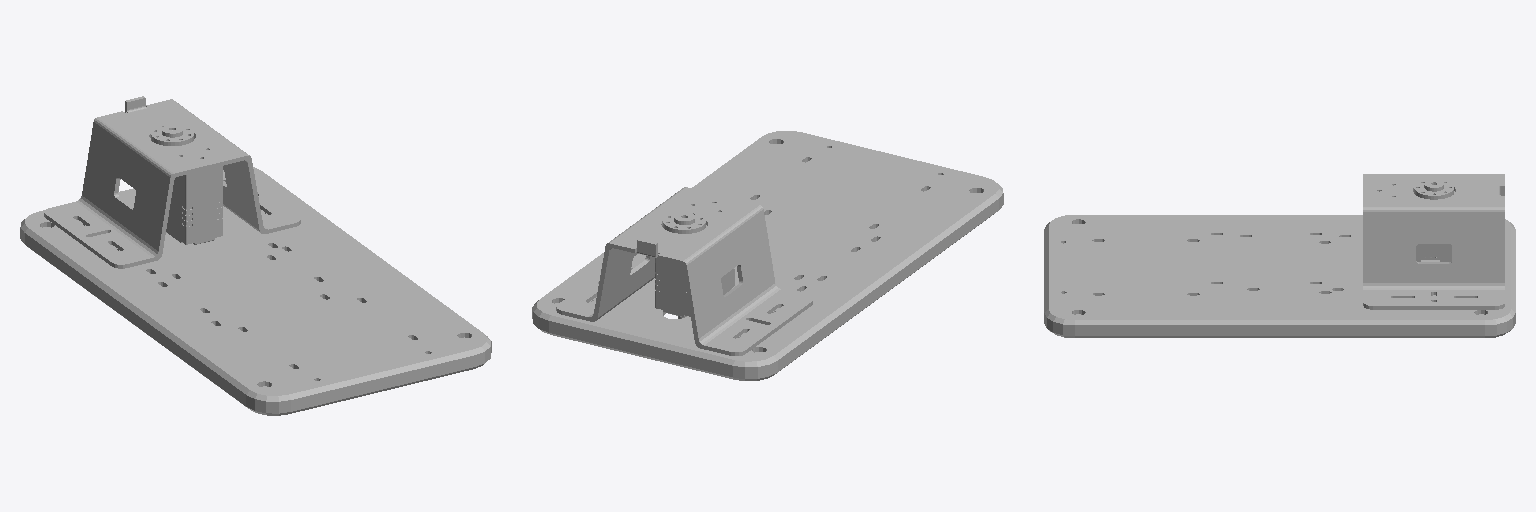
URDF robot description (robo_description):
<?xml version="1.0" encoding="utf-8"?>
<!-- This URDF was automatically created by SolidWorks to URDF Exporter! Originally created by [author] ([email redacted]) 
     Commit Version: 1.6.0-4-g7f85cfe  Build Version: 1.6.7995.38578
     For more information, please see http://wiki.ros.org/sw_urdf_exporter -->
<robot
  name="robo_description">
  <link
    name="base_link">
    <visual>
      <origin
        xyz="0 0 0"
        rpy="0 0 0" />
      <geometry>
        <mesh
          filename="package://robo_description/meshes/visual/base_link.STL" />
      </geometry>
      <material
        name="">
        <color
          rgba="0.75294 0.75294 0.75294 1" />
      </material>
    </visual>
    <collision>
      <origin
        xyz="0 0 0"
        rpy="0 0 0" />
      <geometry>
        <mesh
          filename="package://robo_description/meshes/visual/base_link.STL" />
      </geometry>
    </collision>
  </link>
  <link
    name="robot_link1">
    <visual>
      <origin
        xyz="0 0 0"
        rpy="0 0 0" />
      <geometry>
        <mesh
          filename="package://robo_description/meshes/visual/robot_link1.STL" />
      </geometry>
      <material
        name="">
        <color
          rgba="0.75294 0.75294 0.75294 1" />
      </material>
    </visual>
    <collision>
      <origin
        xyz="0 0 0"
        rpy="0 0 0" />
      <geometry>
        <mesh
          filename="package://robo_description/meshes/visual/robot_link1.STL" />
      </geometry>
    </collision>
  </link>
  <joint
    name="robot_joint1"
    type="revolute">
    <origin
      xyz="-4.1073E-05 0.080098 0.057"
      rpy="0 0 0" />
    <parent
      link="base_link" />
    <child
      link="robot_link1" />
    <axis
      xyz="0 0 -1" />
    <limit
      lower="-2"
      upper="2"
      effort="30"
      velocity="50" />
  </joint>
  <link
    name="robot_link2">
    <visual>
      <origin
        xyz="0 0 0"
        rpy="0 0 0" />
      <geometry>
        <mesh
          filename="package://robo_description/meshes/visual/robot_link2.STL" />
      </geometry>
      <material
        name="">
        <color
          rgba="0.75294 0.75294 0.75294 1" />
      </material>
    </visual>
    <collision>
      <origin
        xyz="0 0 0"
        rpy="0 0 0" />
      <geometry>
        <mesh
          filename="package://robo_description/meshes/visual/robot_link2.STL" />
      </geometry>
    </collision>
  </link>
  <joint
    name="robot_joint2"
    type="revolute">
    <origin
      xyz="-0.0258 -0.00081639 0.015894"
      rpy="-1.5708 0 1.5708" />
    <parent
      link="robot_link1" />
    <child
      link="robot_link2" />
    <axis
      xyz="0 0 1" />
    <limit
      lower="-0.9"
      upper="1.5"
      effort="30"
      velocity="50.000001" />
  </joint>
  <link
    name="robot_link3">
    <visual>
      <origin
        xyz="0 0 0"
        rpy="0 0 0" />
      <geometry>
        <mesh
          filename="package://robo_description/meshes/visual/robot_link3.STL" />
      </geometry>
      <material
        name="">
        <color
          rgba="0.75294 0.75294 0.75294 1" />
      </material>
    </visual>
    <collision>
      <origin
        xyz="0 0 0"
        rpy="0 0 0" />
      <geometry>
        <mesh
          filename="package://robo_description/meshes/visual/robot_link3.STL" />
      </geometry>
    </collision>
  </link>
  <joint
    name="robot_joint3"
    type="revolute">
    <origin
      xyz="0 -0.081399 0.001"
      rpy="0 0 0" />
    <parent
      link="robot_link2" />
    <child
      link="robot_link3" />
    <axis
      xyz="0 0 1" />
    <limit
      lower="-2.1"
      upper="2.1"
      effort="30"
      velocity="50.000001" />
  </joint>
  <link
    name="robot_link4">
    <visual>
      <origin
        xyz="0 0 0"
        rpy="0 0 0" />
      <geometry>
        <mesh
          filename="package://robo_description/meshes/visual/robot_link4.STL" />
      </geometry>
      <material
        name="">
        <color
          rgba="0.75294 0.75294 0.75294 1" />
      </material>
    </visual>
    <collision>
      <origin
        xyz="0 0 0"
        rpy="0 0 0" />
      <geometry>
        <mesh
          filename="package://robo_description/meshes/visual/robot_link4.STL" />
      </geometry>
    </collision>
  </link>
  <joint
    name="robot_joint4"
    type="revolute">
    <origin
      xyz="0 -0.07335 0"
      rpy="0 0 0" />
    <parent
      link="robot_link3" />
    <child
      link="robot_link4" />
    <axis
      xyz="0 0 1" />
    <limit
      lower="-2"
      upper="1.5"
      effort="30"
      velocity="50.000001" />
  </joint>
  <link
    name="hand_link">
    <visual>
      <origin
        xyz="0 0 0"
        rpy="0 0 0" />
      <geometry>
        <mesh
          filename="package://robo_description/meshes/visual/hand_link.STL" />
      </geometry>
      <material
        name="">
        <color
          rgba="0.75294 0.75294 0.75294 1" />
      </material>
    </visual>
    <collision>
      <origin
        xyz="0 0 0"
        rpy="0 0 0" />
      <geometry>
        <mesh
          filename="package://robo_description/meshes/visual/hand_link.STL" />
      </geometry>
    </collision>
  </link>
  <joint
    name="hand_joint"
    type="revolute">
    <origin
      xyz="0.001325 -0.16273 -0.02655"
      rpy="1.5708 1.5708 0" />
    <parent
      link="robot_link4" />
    <child
      link="hand_link" />
    <axis
      xyz="0 0 -1" />
    <limit
      lower="-0.5"
      upper="3.1"
      effort="30"
      velocity="50" />
  </joint>
  <link
    name="left_link">
    <visual>
      <origin
        xyz="0 0 0"
        rpy="0 0 0" />
      <geometry>
        <mesh
          filename="package://robo_description/meshes/visual/left_link.STL" />
      </geometry>
      <material
        name="">
        <color
          rgba="0.75294 0.75294 0.75294 1" />
      </material>
    </visual>
    <collision>
      <origin
        xyz="0 0 0"
        rpy="0 0 0" />
      <geometry>
        <mesh
          filename="package://robo_description/meshes/visual/left_link.STL" />
      </geometry>
    </collision>
  </link>
  <joint
    name="grippers_joint"
    type="prismatic">
    <origin
      xyz="0.026464 0.013587 -0.013325"
      rpy="-1.5708 0 -1.5708" />
    <parent
      link="hand_link" />
    <child
      link="left_link" />
    <axis
      xyz="0 0 1" />
    <limit
      lower="-0.027"
      upper="0"
      effort="30"
      velocity="50" />
  </joint>
  <link
    name="right_link">
    <visual>
      <origin
        xyz="0 0 0"
        rpy="0 0 0" />
      <geometry>
        <mesh
          filename="package://robo_description/meshes/visual/right_link.STL" />
      </geometry>
      <material
        name="">
        <color
          rgba="0.75294 0.75294 0.75294 1" />
      </material>
    </visual>
    <collision>
      <origin
        xyz="0 0 0"
        rpy="0 0 0" />
      <geometry>
        <mesh
          filename="package://robo_description/meshes/visual/right_link.STL" />
      </geometry>
    </collision>
  </link>
  <joint
    name="right_joint"
    type="prismatic">
    <origin
      xyz="-0.026464 0.013587 -0.013325"
      rpy="-1.5708 0 1.5708" />
    <parent
      link="hand_link" />
    <child
      link="right_link" />
    <axis
      xyz="0 0 1" />
    <limit
      lower="-3.1"
      upper="3.1"
      effort="30"
      velocity="50.000001" />
    <mimic joint="grippers_joint" />
  </joint>
</robot>

--- Facts derived from the render (not from the file) ---
3 views of the same robot in one strip: view 1: azimuth 30°, elevation 25°; view 2: azimuth 150°, elevation 25°; view 3: azimuth 270°, elevation 25° (orthographic).
Robot: robo_description — 8 links, 7 joints (5 revolute, 2 prismatic); root link base_link; default pose: all joints at 0.
Links seen in each view (by area): view 1: base_link; view 2: base_link; view 3: base_link.
Boxes of the visible links, x1=… form: base_link: x1=20, y1=96, x2=491, y2=415; base_link: x1=532, y1=131, x2=1003, y2=380; base_link: x1=1044, y1=174, x2=1515, y2=337.
Size in the robot's own frame: 0.1276 by 0.2335 by 0.057 metres.
Meshes: 8 distinct files referenced, 1 mesh visuals loaded (1 binary STL); not drawn: 7 (file found but could not be loaded).